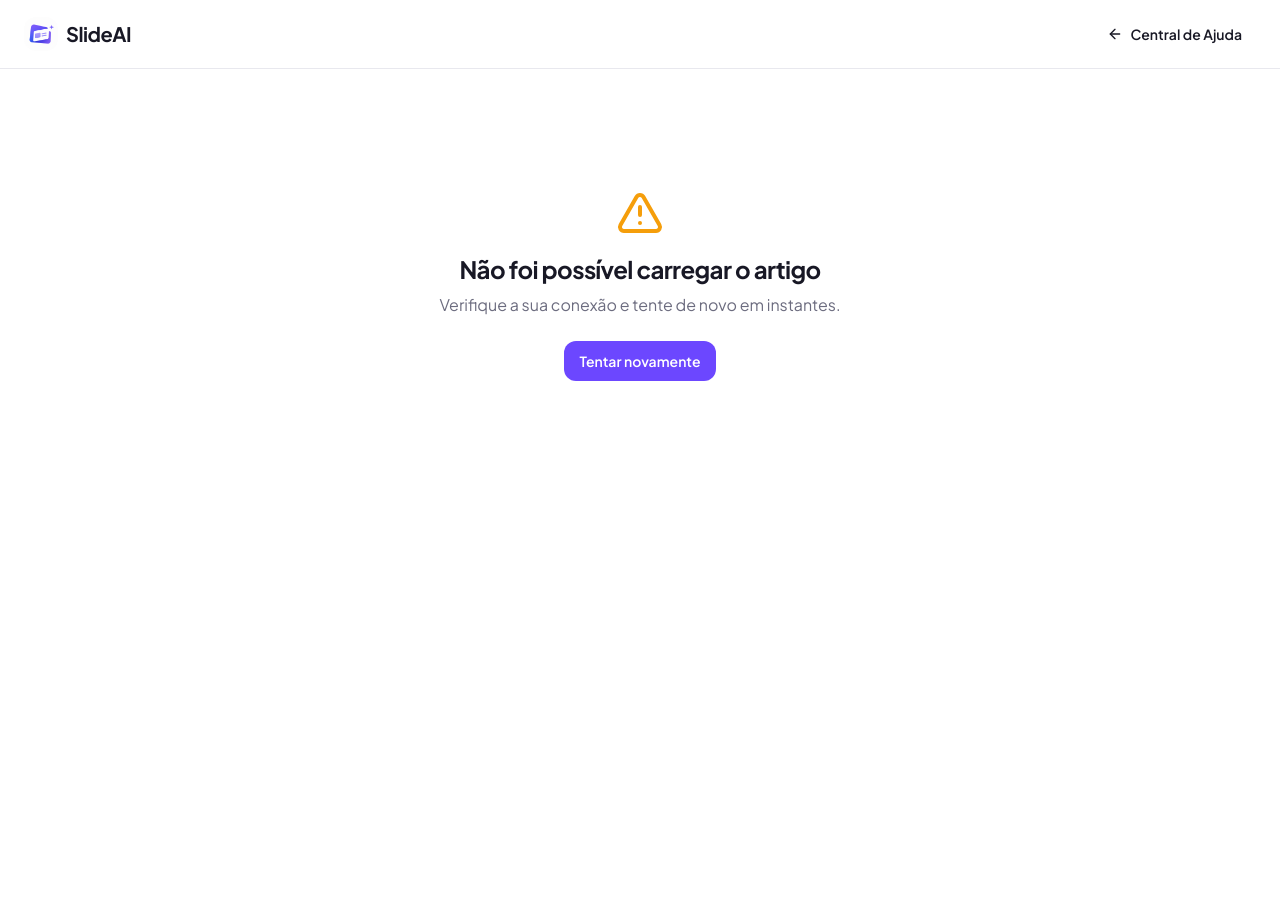
it: artigo da Central de Ajuda › falha de conexão mostra aviso com nova tentativa, sem noindex
Expected: the heading "Não foi possível carregar o artigo" is shown, [459, 254, 821, 284]
Click the button "Tentar novamente" at (640, 361), box [564, 341, 716, 381]
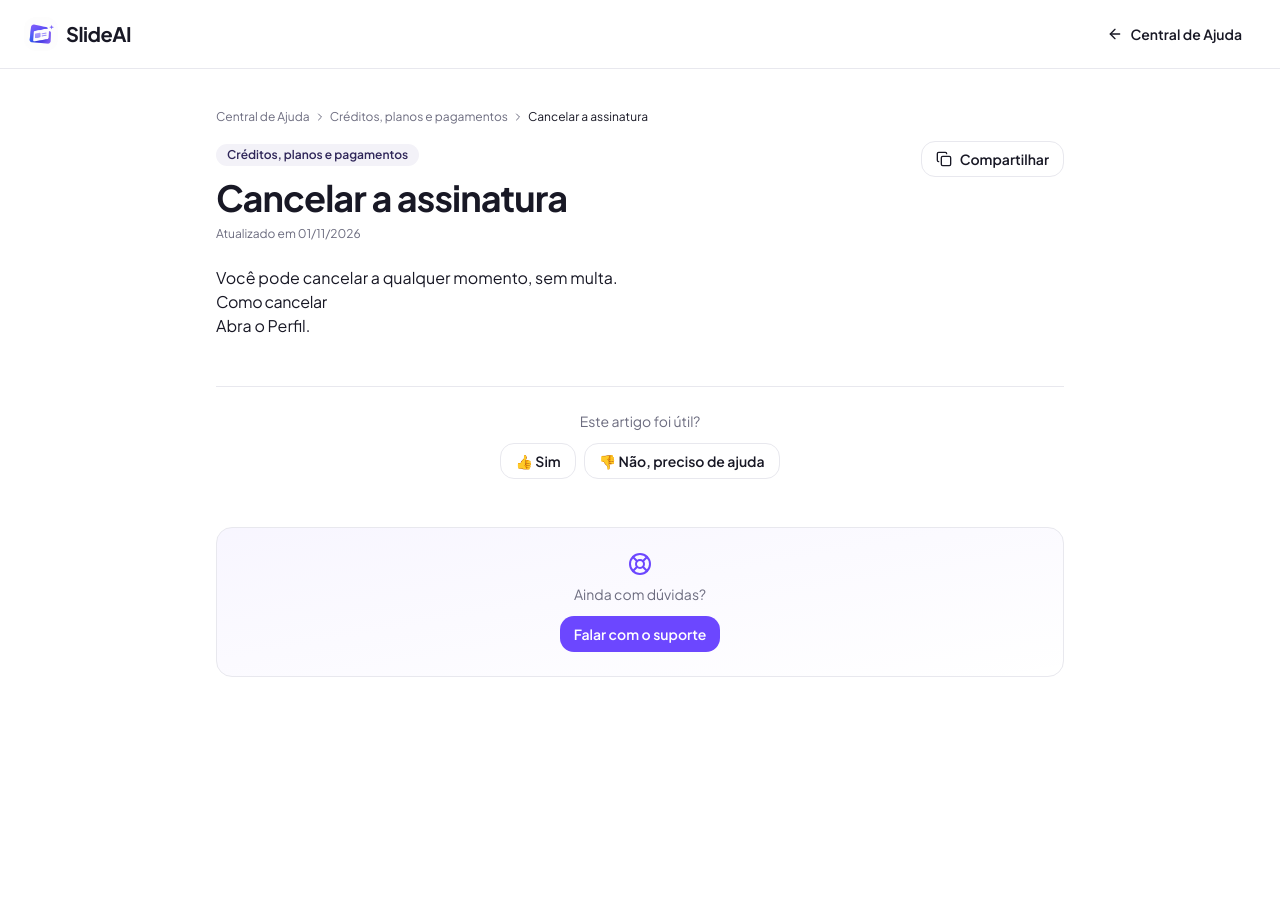
Expected: the heading "Cancelar a assinatura" is shown, [216, 178, 567, 218]
